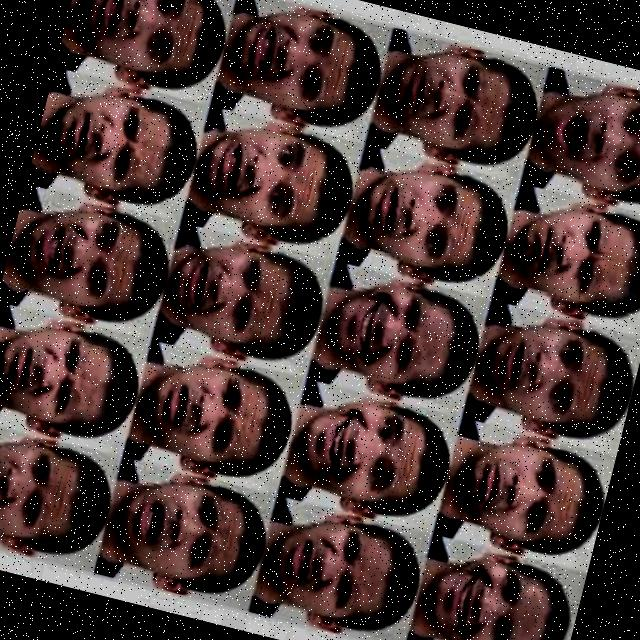angry: (489, 178, 640, 329)
disgust: (247, 491, 433, 640), (24, 72, 207, 223), (0, 297, 151, 455)
fear: (153, 217, 336, 376), (179, 100, 366, 254), (337, 145, 522, 288)
happy: (278, 373, 461, 531), (308, 254, 492, 409), (405, 529, 588, 640)
sad: (362, 20, 548, 182), (124, 335, 307, 491), (434, 416, 616, 569)
surprised: (92, 452, 279, 616), (461, 288, 640, 455), (0, 185, 177, 330), (518, 56, 640, 222), (0, 416, 121, 571)
